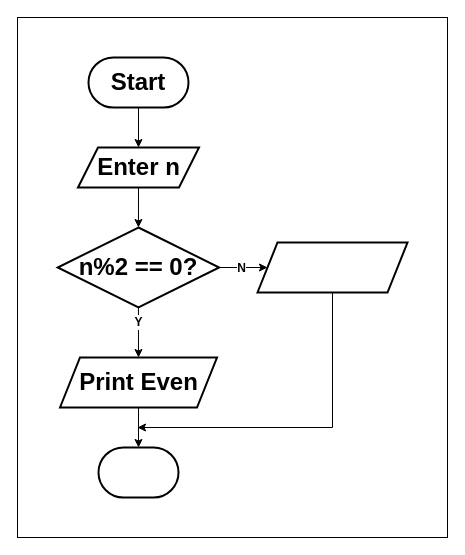
Some shapes in this 465 by 555 pixel diagram are drawn without their labels. The shapes that lost their labels are listed below. From the top down, each one's box as (x1, y1, x2, y2) in pixels, then its label:
(256, 241, 408, 293): Print Odd
(97, 446, 179, 498): End
